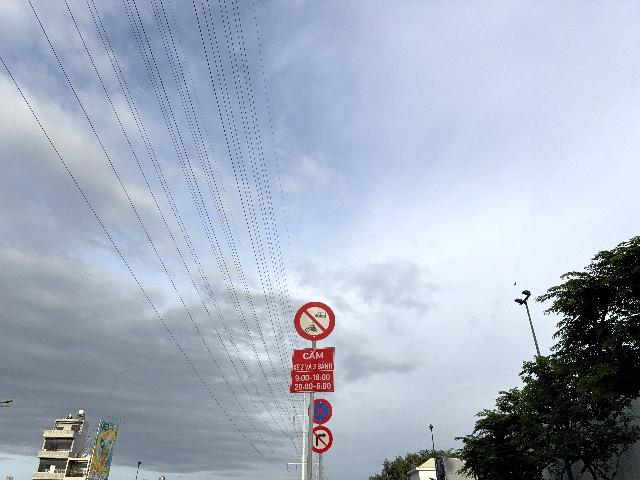cam-dung-va-do-xe: (308, 398, 333, 424)
cam-re-phai: (313, 425, 333, 453)
cam-xe-2-banh-3-banh: (294, 301, 335, 342)
